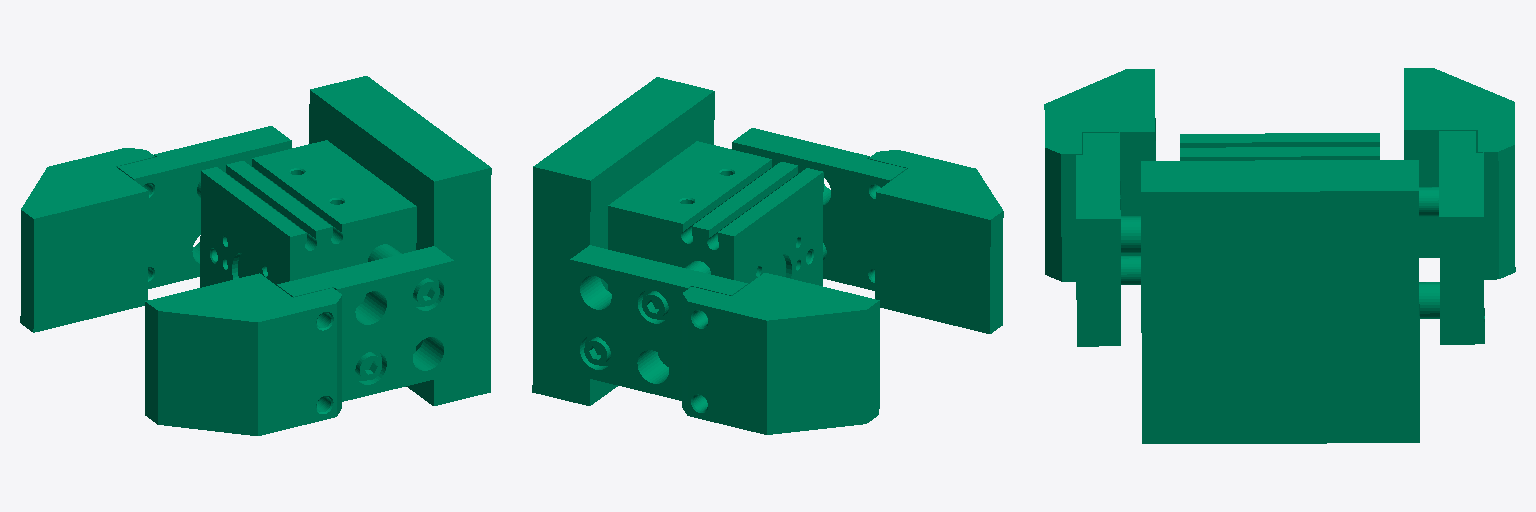
robot.urdf — ur5_with_gripper:
<?xml version="1.0" encoding="utf-8"?>
<!-- =================================================================================== -->
<!-- |    This document was autogenerated by xacro from ur5_with_gripper.xacro         | -->
<!-- |    EDITING THIS FILE BY HAND IS NOT RECOMMENDED                                 | -->
<!-- =================================================================================== -->
<robot name="ur5_with_gripper">
  <!-- measured from model -->
  <link name="base_link">
    <visual>
      <origin rpy="0 0 3.14159265359" xyz="0 0 0"/>
      <geometry>
        <mesh filename="package://ur_description/meshes/ur5/visual/base.dae"/>
      </geometry>
      <material name="LightGrey">
        <color rgba="0.7 0.7 0.7 1.0"/>
      </material>
    </visual>
    <collision>
      <origin rpy="0 0 3.14159265359" xyz="0 0 0"/>
      <geometry>
        <mesh filename="package://ur_description/meshes/ur5/collision/base.stl"/>
      </geometry>
    </collision>
    <inertial>
      <mass value="4.0"/>
      <origin rpy="0 0 0" xyz="0.0 0.0 0.0"/>
      <inertia ixx="0.00443333156" ixy="0.0" ixz="0.0" iyy="0.00443333156" iyz="0.0" izz="0.0072"/>
    </inertial>
  </link>
  <joint name="shoulder_pan_joint" type="revolute">
    <parent link="base_link"/>
    <child link="shoulder_link"/>
    <origin rpy="0 0 3.14156427043" xyz="0 0 0.0892575033878"/>
    <axis xyz="0 0 1"/>
    <limit effort="150.0" lower="-6.14159265359" upper="6.14159265359" velocity="3.15"/>
    <dynamics damping="0.0" friction="0.0"/>
  </joint>
  <link name="shoulder_link">
    <visual>
      <origin rpy="0 0 3.14159265359" xyz="0 0 0"/>
      <geometry>
        <mesh filename="package://ur_description/meshes/ur5/visual/shoulder.dae"/>
      </geometry>
      <material name="LightGrey">
        <color rgba="0.7 0.7 0.7 1.0"/>
      </material>
    </visual>
    <collision>
      <origin rpy="0 0 3.14159265359" xyz="0 0 0"/>
      <geometry>
        <mesh filename="package://ur_description/meshes/ur5/collision/shoulder.stl"/>
      </geometry>
    </collision>
    <inertial>
      <mass value="3.7"/>
      <origin rpy="0 0 0" xyz="0.0 0.0 0.0"/>
      <inertia ixx="0.0149723523444" ixy="0.0" ixz="0.0" iyy="0.0149723523444" iyz="0.0" izz="0.01040625"/>
    </inertial>
  </link>
  <joint name="shoulder_lift_joint" type="revolute">
    <parent link="shoulder_link"/>
    <child link="upper_arm_link"/>
    <origin rpy="1.57014952537 0 -8.86599135679e-05" xyz="0.000126929179948 0 0"/>
    <axis xyz="0 0 1"/>
    <limit effort="150.0" lower="-6.14159265359" upper="6.14159265359" velocity="3.15"/>
    <dynamics damping="0.0" friction="0.0"/>
  </joint>
  <link name="upper_arm_link">
    <visual>
      <origin rpy="1.57079632679 0 -1.57079632679" xyz="0 0 0.136"/>
      <geometry>
        <mesh filename="package://ur_description/meshes/ur5/visual/upperarm.dae"/>
      </geometry>
      <material name="LightGrey">
        <color rgba="0.7 0.7 0.7 1.0"/>
      </material>
    </visual>
    <collision>
      <origin rpy="1.57079632679 0 -1.57079632679" xyz="0 0 0.136"/>
      <geometry>
        <mesh filename="package://ur_description/meshes/ur5/collision/upperarm.stl"/>
      </geometry>
    </collision>
    <inertial>
      <mass value="8.393"/>
      <origin rpy="0 1.57079632679 0" xyz="-0.212697432315 0.0 0.136"/>
      <inertia ixx="0.134120639488" ixy="0.0" ixz="0.0" iyy="0.134120639488" iyz="0.0" izz="0.0151074"/>
    </inertial>
  </link>
  <joint name="elbow_joint" type="revolute">
    <parent link="upper_arm_link"/>
    <child link="forearm_link"/>
    <origin rpy="0.00031414157897 0.00140768900099 5.00595691863e-05" xyz="-0.42539486463 0 0"/>
    <axis xyz="0 0 1"/>
    <limit effort="150.0" lower="-6.14159265359" upper="6.14159265359" velocity="3.15"/>
    <dynamics damping="0.0" friction="0.0"/>
  </joint>
  <link name="forearm_link">
    <visual>
      <origin rpy="1.57079632679 0 -1.57079632679" xyz="0 0 0.0165"/>
      <geometry>
        <mesh filename="package://ur_description/meshes/ur5/visual/forearm.dae"/>
      </geometry>
      <material name="LightGrey">
        <color rgba="0.7 0.7 0.7 1.0"/>
      </material>
    </visual>
    <collision>
      <origin rpy="1.57079632679 0 -1.57079632679" xyz="0 0 0.0165"/>
      <geometry>
        <mesh filename="package://ur_description/meshes/ur5/collision/forearm.stl"/>
      </geometry>
    </collision>
    <inertial>
      <mass value="2.275"/>
      <origin rpy="0 1.57079632679 0" xyz="-0.212697432315 0.0 0.0165"/>
      <inertia ixx="0.0312343198698" ixy="0.0" ixz="0.0" iyy="0.0312343198698" iyz="0.0" izz="0.004095"/>
    </inertial>
  </link>
  <joint name="wrist_1_joint" type="revolute">
    <parent link="forearm_link"/>
    <child link="wrist_1_link"/>
    <origin rpy="3.13697616422 3.14133001223 3.14154800701" xyz="-0.392367840625 0.000509259142546 0.110312292299"/>
    <axis xyz="0 0 1"/>
    <limit effort="28.0" lower="-6.14159265359" upper="6.14159265359" velocity="3.2"/>
    <dynamics damping="0.0" friction="0.0"/>
  </joint>
  <link name="wrist_1_link">
    <visual>
      <origin rpy="1.57079632679 0 0" xyz="0 0 -0.093"/>
      <geometry>
        <mesh filename="package://ur_description/meshes/ur5/visual/wrist1.dae"/>
      </geometry>
      <material name="LightGrey">
        <color rgba="0.7 0.7 0.7 1.0"/>
      </material>
    </visual>
    <collision>
      <origin rpy="1.57079632679 0 0" xyz="0 0 -0.093"/>
      <geometry>
        <mesh filename="package://ur_description/meshes/ur5/collision/wrist1.stl"/>
      </geometry>
    </collision>
    <inertial>
      <mass value="1.219"/>
      <origin rpy="0 0 0" xyz="0.0 0.0 0.0"/>
      <inertia ixx="0.00262578306197" ixy="0.0" ixz="0.0" iyy="0.00262578306197" iyz="0.0" izz="0.0034284375"/>
    </inertial>
  </link>
  <joint name="wrist_2_joint" type="revolute">
    <parent link="wrist_1_link"/>
    <child link="wrist_2_link"/>
    <origin rpy="1.56992636792 0 2.78225517996e-05" xyz="7.62616716907e-05 -0.0947289399558 8.24103026857e-05"/>
    <axis xyz="0 0 1"/>
    <limit effort="28.0" lower="-6.14159265359" upper="6.14159265359" velocity="3.2"/>
    <dynamics damping="0.0" friction="0.0"/>
  </joint>
  <link name="wrist_2_link">
    <visual>
      <origin rpy="0 0 0" xyz="0 0 -0.095"/>
      <geometry>
        <mesh filename="package://ur_description/meshes/ur5/visual/wrist2.dae"/>
      </geometry>
      <material name="LightGrey">
        <color rgba="0.7 0.7 0.7 1.0"/>
      </material>
    </visual>
    <collision>
      <origin rpy="0 0 0" xyz="0 0 -0.095"/>
      <geometry>
        <mesh filename="package://ur_description/meshes/ur5/collision/wrist2.stl"/>
      </geometry>
    </collision>
    <inertial>
      <mass value="1.219"/>
      <origin rpy="0 0 0" xyz="0.0 0.0 0.0"/>
      <inertia ixx="0.00178685216027" ixy="0.0" ixz="0.0" iyy="0.00178685216027" iyz="0.0" izz="0.0021942"/>
    </inertial>
  </link>
  <joint name="wrist_3_joint" type="revolute">
    <parent link="wrist_2_link"/>
    <child link="wrist_3_link"/>
    <origin rpy="1.57144257568 3.14159265359 -3.14154655116" xyz="1.98429855564e-05 0.082401578253 5.32519358801e-05"/>
    <axis xyz="0 0 1"/>
    <limit effort="28.0" lower="-6.14159265359" upper="6.14159265359" velocity="3.2"/>
    <dynamics damping="0.0" friction="0.0"/>
  </joint>
  <link name="wrist_3_link">
    <visual>
      <origin rpy="1.57079632679 0 0" xyz="0 0 -0.0818"/>
      <geometry>
        <mesh filename="package://ur_description/meshes/ur5/visual/wrist3.dae"/>
      </geometry>
      <material name="LightGrey">
        <color rgba="0.7 0.7 0.7 1.0"/>
      </material>
    </visual>
    <collision>
      <origin rpy="1.57079632679 0 0" xyz="0 0 -0.0823"/>
      <geometry>
        <mesh filename="package://ur_description/meshes/ur5/collision/wrist3.stl"/>
      </geometry>
    </collision>
    <inertial>
      <mass value="0.1879"/>
      <origin rpy="0 0 0" xyz="0.0 0.0 -0.01525"/>
      <inertia ixx="8.06247260834e-05" ixy="0.0" ixz="0.0" iyy="8.06247260834e-05" iyz="0.0" izz="0.0001321171875"/>
    </inertial>
  </link>
  <joint name="ee_fixed_joint" type="fixed">
    <parent link="wrist_3_link"/>
    <child link="ee_link"/>
    <origin rpy="0.0 -1.57079632679 1.57079632679" xyz="0.0 0.0 0.0"/>
  </joint>
  <link name="ee_link">
    <collision>
      <geometry>
        <box size="0.01 0.01 0.01"/>
      </geometry>
      <origin rpy="0 0 0" xyz="-0.01 0 0"/>
    </collision>
  </link>
  <joint name="wrist_3_passive_joint" type="fixed">
    <origin rpy="0 0 0" xyz="0 0 0"/>
    <parent link="wrist_3_link"/>
    <child link="tool0"/>
  </joint>
  <transmission name="shoulder_pan_trans">
    <type>transmission_interface/SimpleTransmission</type>
    <joint name="shoulder_pan_joint">
      <hardwareInterface>hardware_interface/PositionJointInterface</hardwareInterface>
    </joint>
    <actuator name="shoulder_pan_motor">
      <mechanicalReduction>1</mechanicalReduction>
    </actuator>
  </transmission>
  <transmission name="shoulder_lift_trans">
    <type>transmission_interface/SimpleTransmission</type>
    <joint name="shoulder_lift_joint">
      <hardwareInterface>hardware_interface/PositionJointInterface</hardwareInterface>
    </joint>
    <actuator name="shoulder_lift_motor">
      <mechanicalReduction>1</mechanicalReduction>
    </actuator>
  </transmission>
  <transmission name="elbow_trans">
    <type>transmission_interface/SimpleTransmission</type>
    <joint name="elbow_joint">
      <hardwareInterface>hardware_interface/PositionJointInterface</hardwareInterface>
    </joint>
    <actuator name="elbow_motor">
      <mechanicalReduction>1</mechanicalReduction>
    </actuator>
  </transmission>
  <transmission name="wrist_1_trans">
    <type>transmission_interface/SimpleTransmission</type>
    <joint name="wrist_1_joint">
      <hardwareInterface>hardware_interface/PositionJointInterface</hardwareInterface>
    </joint>
    <actuator name="wrist_1_motor">
      <mechanicalReduction>1</mechanicalReduction>
    </actuator>
  </transmission>
  <transmission name="wrist_2_trans">
    <type>transmission_interface/SimpleTransmission</type>
    <joint name="wrist_2_joint">
      <hardwareInterface>hardware_interface/PositionJointInterface</hardwareInterface>
    </joint>
    <actuator name="wrist_2_motor">
      <mechanicalReduction>1</mechanicalReduction>
    </actuator>
  </transmission>
  <transmission name="wrist_3_trans">
    <type>transmission_interface/SimpleTransmission</type>
    <joint name="wrist_3_joint">
      <hardwareInterface>hardware_interface/PositionJointInterface</hardwareInterface>
    </joint>
    <actuator name="wrist_3_motor">
      <mechanicalReduction>1</mechanicalReduction>
    </actuator>
  </transmission>
  <gazebo reference="shoulder_link">
    <selfCollide>true</selfCollide>
  </gazebo>
  <gazebo reference="upper_arm_link">
    <selfCollide>true</selfCollide>
  </gazebo>
  <gazebo reference="forearm_link">
    <selfCollide>true</selfCollide>
  </gazebo>
  <gazebo reference="wrist_1_link">
    <selfCollide>true</selfCollide>
  </gazebo>
  <gazebo reference="wrist_3_link">
    <selfCollide>true</selfCollide>
  </gazebo>
  <gazebo reference="wrist_2_link">
    <selfCollide>true</selfCollide>
  </gazebo>
  <gazebo reference="ee_link">
    <selfCollide>true</selfCollide>
  </gazebo>
  <!-- ROS base_link to UR 'Base' Coordinates transform -->
  <link name="base"/>
  <joint name="base_link-base_fixed_joint" type="fixed">
    <!-- NOTE: this rotation is only needed as long as base_link itself is
                 not corrected wrt the real robot (ie: rotated over 180
                 degrees)
      -->
    <origin rpy="0 0 -3.14159265359" xyz="0 0 0"/>
    <parent link="base_link"/>
    <child link="base"/>
  </joint>
  <!-- Frame coincident with all-zeros TCP on UR controller -->
  <link name="tool0"/>
  <!-- Create a fixed joint with a parameterized name. -->
  <joint name="gripper_joint" type="fixed">
    <!-- The parent link must be read from the robot model it is attached to. -->
    <parent link="tool0"/>
    <child link="gripper"/>
    <!-- The tool is directly attached to the flange. -->
    <origin rpy="1.570796326794897 0 1.570796326794897" xyz="0 0 0.04"/>
  </joint>
  <link name="gripper">
    <visual>
      <geometry>
        <!-- The path to the visual meshes in the package. -->
        <mesh filename="package://ur5_with_gripper/meshes/visual/gripper_tool.stl"/>
      </geometry>
    </visual>
    <collision>
      <geometry>
        <!-- The path to the collision meshes in the package. -->
        <mesh filename="package://ur5_with_gripper/meshes/collision/gripper_tool.stl"/>
      </geometry>
    </collision>
  </link>
  <!-- TCP frame -->
  <joint name="tcp_joint" type="fixed">
    <origin rpy="0 0 0" xyz="0 0.15 0"/>
    <parent link="gripper"/>
    <child link="tcp"/>
  </joint>
  <link name="tcp"/>
  <!-- define the ur5's position and orientation in the world coordinate system -->
  <link name="world"/>
  <joint name="world_joint" type="fixed">
    <parent link="world"/>
    <child link="base_link"/>
    <!-- TODO: check base_link name of robot -->
    <origin rpy="0.0 0.0 0.0" xyz="0.0 0.0 0.0"/>
  </joint>
</robot>

--- Facts derived from the render (not from the file) ---
3 views of the same robot in one strip: view 1: azimuth 30°, elevation 25°; view 2: azimuth 150°, elevation 25°; view 3: azimuth 270°, elevation 25° (orthographic).
Robot: ur5_with_gripper — 13 links, 12 joints (6 revolute, 6 fixed); root link world; default pose: every joint at zero.
Visible links, largest first — view 1: gripper; view 2: gripper; view 3: gripper.
Link boxes in pixels (x1=…): gripper: x1=20, y1=76, x2=491, y2=435; gripper: x1=532, y1=77, x2=1003, y2=434; gripper: x1=1044, y1=68, x2=1515, y2=443.
Bounding box of the posed robot: 0.1185 × 0.127 × 0.0754 m (x, y, z).
1 mesh visuals loaded from 8 distinct referenced files (1 binary STL); not drawn: 7 (reference not matched to a file when rendering).